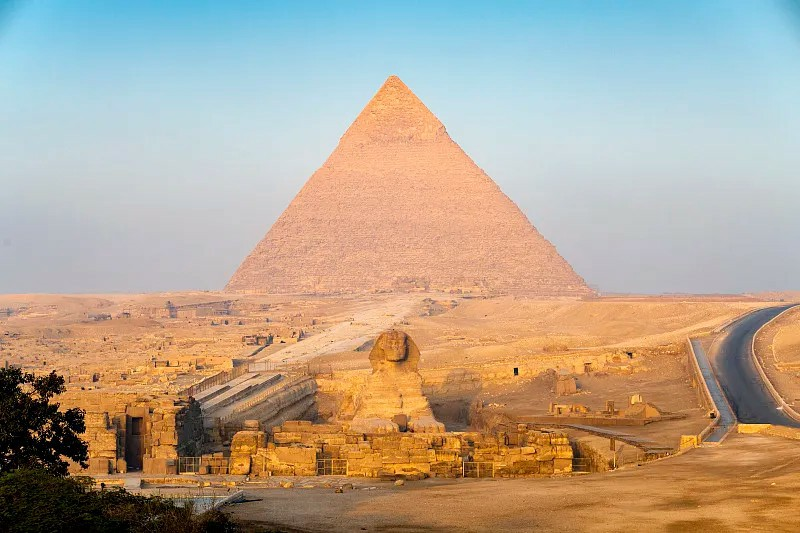Pyramid: (220, 74, 599, 297)
